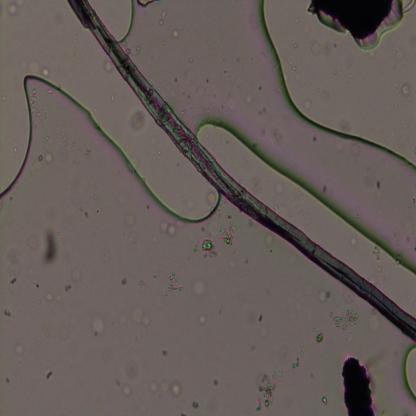Air bubble: (214, 54, 416, 261), (0, 60, 223, 239), (243, 1, 302, 108), (114, 2, 139, 42), (400, 344, 416, 404)
Anthropogenic: (66, 0, 416, 343)
Background material: (297, 0, 416, 54), (293, 310, 357, 366), (339, 354, 377, 414), (252, 369, 284, 412), (42, 225, 60, 268), (7, 249, 25, 286), (163, 268, 185, 296), (216, 221, 236, 247), (29, 86, 44, 120), (130, 306, 152, 328), (195, 238, 218, 259), (66, 264, 81, 293), (129, 108, 147, 132), (124, 357, 141, 381), (312, 282, 331, 303), (125, 207, 135, 244), (146, 381, 169, 396), (36, 149, 56, 166), (368, 246, 386, 264), (92, 312, 106, 334), (160, 219, 176, 238), (8, 1, 21, 24), (274, 125, 288, 146), (193, 278, 207, 299), (154, 7, 168, 27), (261, 230, 275, 247), (44, 365, 57, 383), (134, 0, 155, 10), (169, 24, 183, 38), (172, 382, 184, 398), (122, 382, 132, 401), (188, 398, 201, 412), (40, 65, 51, 81), (206, 191, 218, 203), (198, 312, 208, 326), (402, 84, 411, 98), (253, 309, 262, 322), (139, 274, 147, 288), (15, 343, 24, 355), (119, 274, 128, 286), (292, 360, 302, 370), (2, 309, 13, 318), (160, 349, 170, 358), (354, 144, 361, 156), (83, 208, 89, 222), (212, 377, 220, 387), (249, 344, 256, 352), (322, 396, 327, 406), (242, 258, 248, 265)
